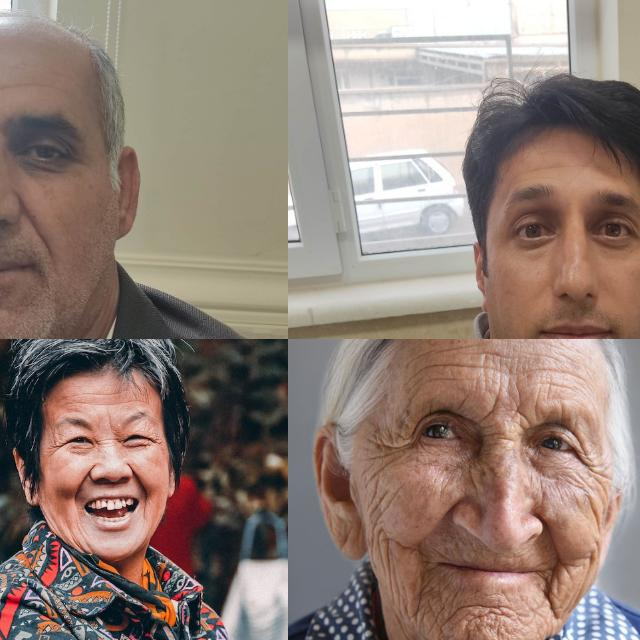bunny_line: (468, 458, 496, 492)
chin: (450, 598, 520, 634)
crows_feet: (366, 426, 420, 468), (576, 448, 606, 497), (46, 437, 66, 457), (150, 434, 164, 450)
forehead: (424, 344, 492, 386), (526, 360, 582, 396), (74, 390, 138, 408), (0, 72, 39, 98), (526, 157, 564, 176)
frown_line: (482, 399, 528, 441), (95, 432, 119, 450)
gummy_smile: (19, 202, 53, 248), (538, 517, 566, 571), (424, 497, 464, 533), (128, 462, 150, 493), (71, 470, 93, 496)
masseter: (370, 492, 400, 582), (581, 490, 611, 540), (58, 518, 88, 550), (582, 540, 600, 584)
sad_smile: (414, 548, 436, 602), (540, 570, 564, 616), (139, 501, 153, 522)
